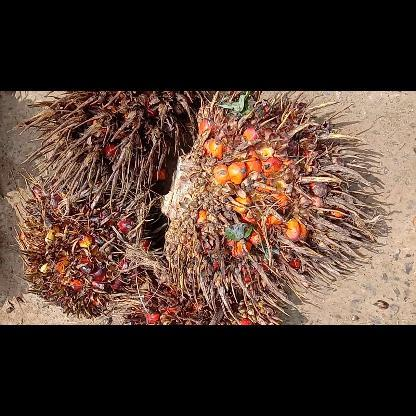Terlalu masak: (156, 91, 392, 323), (10, 167, 162, 319), (10, 91, 212, 204), (116, 238, 290, 324)
